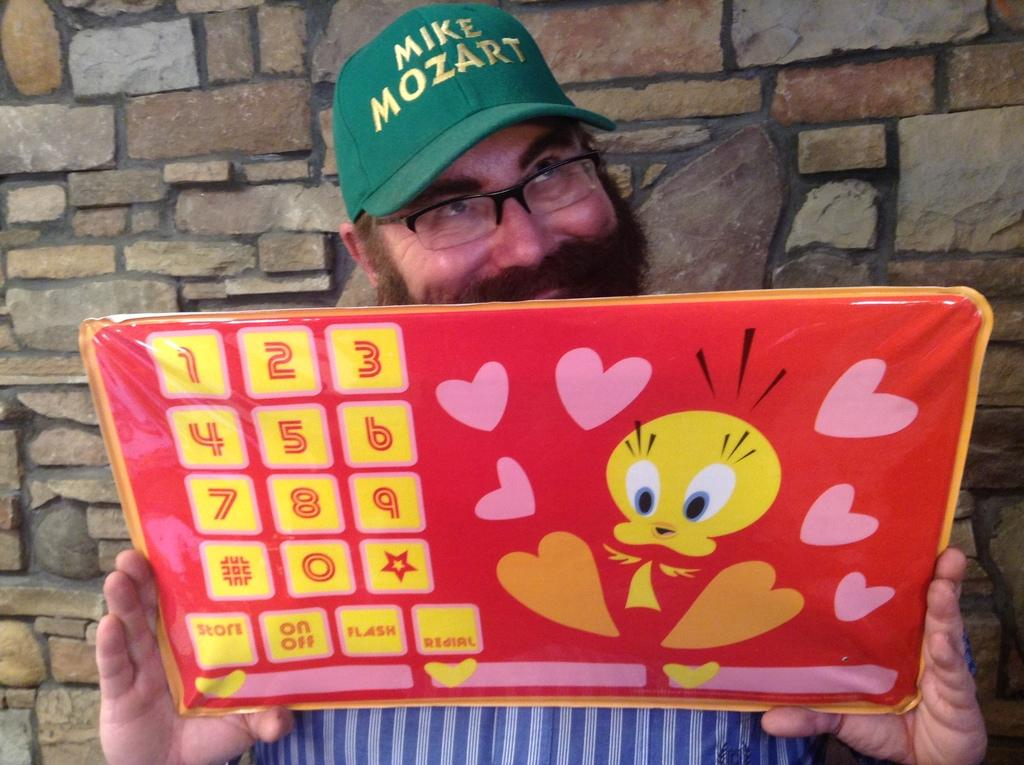Hat: (340, 0, 632, 216)
